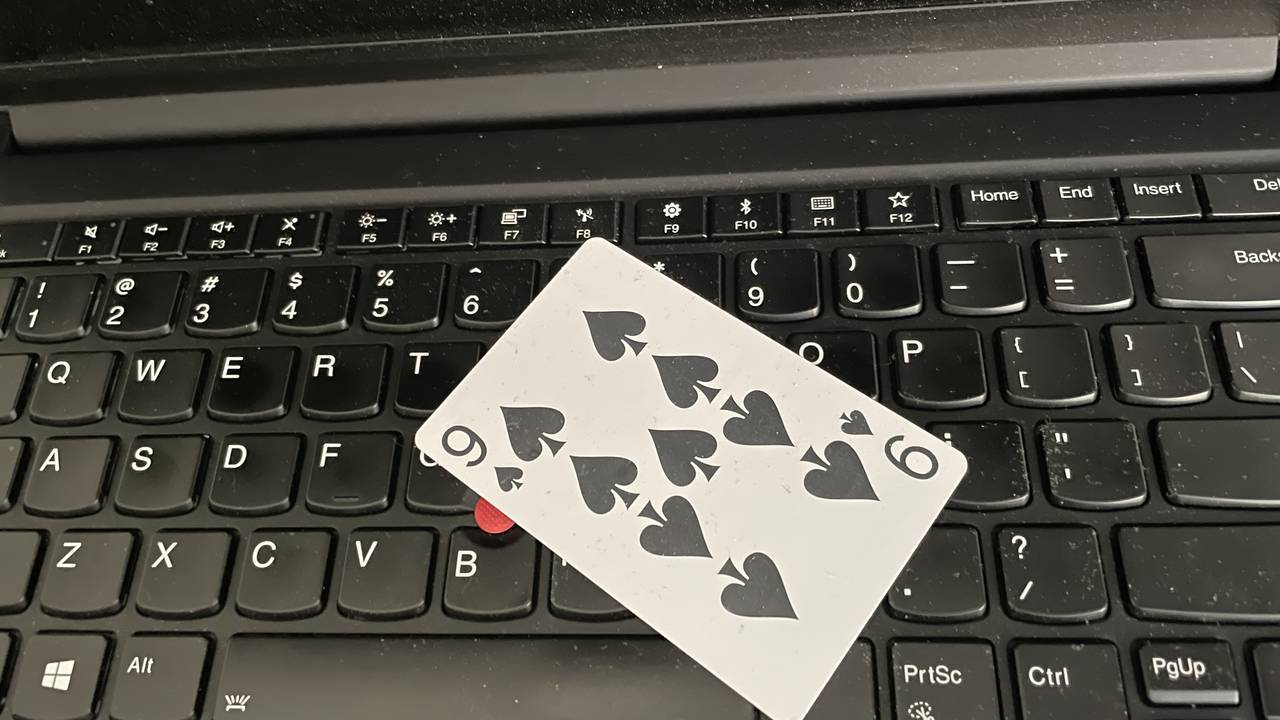nine: (437, 308, 942, 623)
